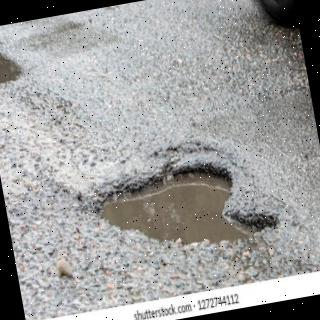pothole: (103, 168, 277, 245)
